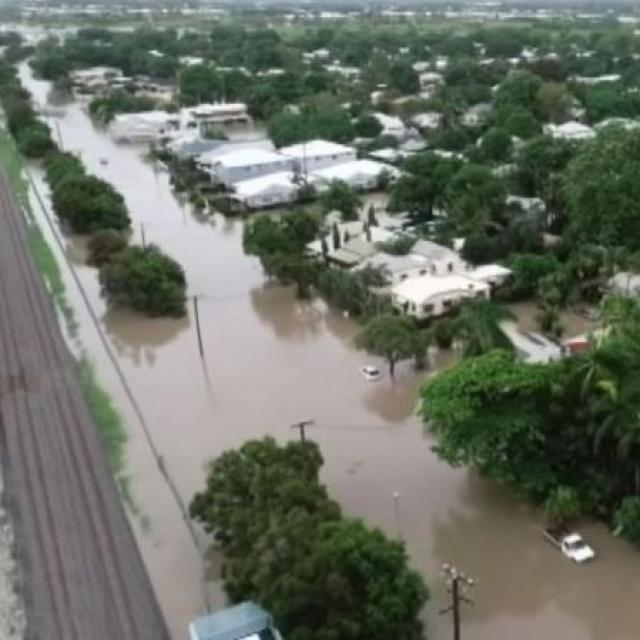flood: (20, 65, 640, 640)
house: (399, 274, 492, 316), (282, 136, 356, 174), (216, 145, 290, 180), (412, 238, 464, 277)
